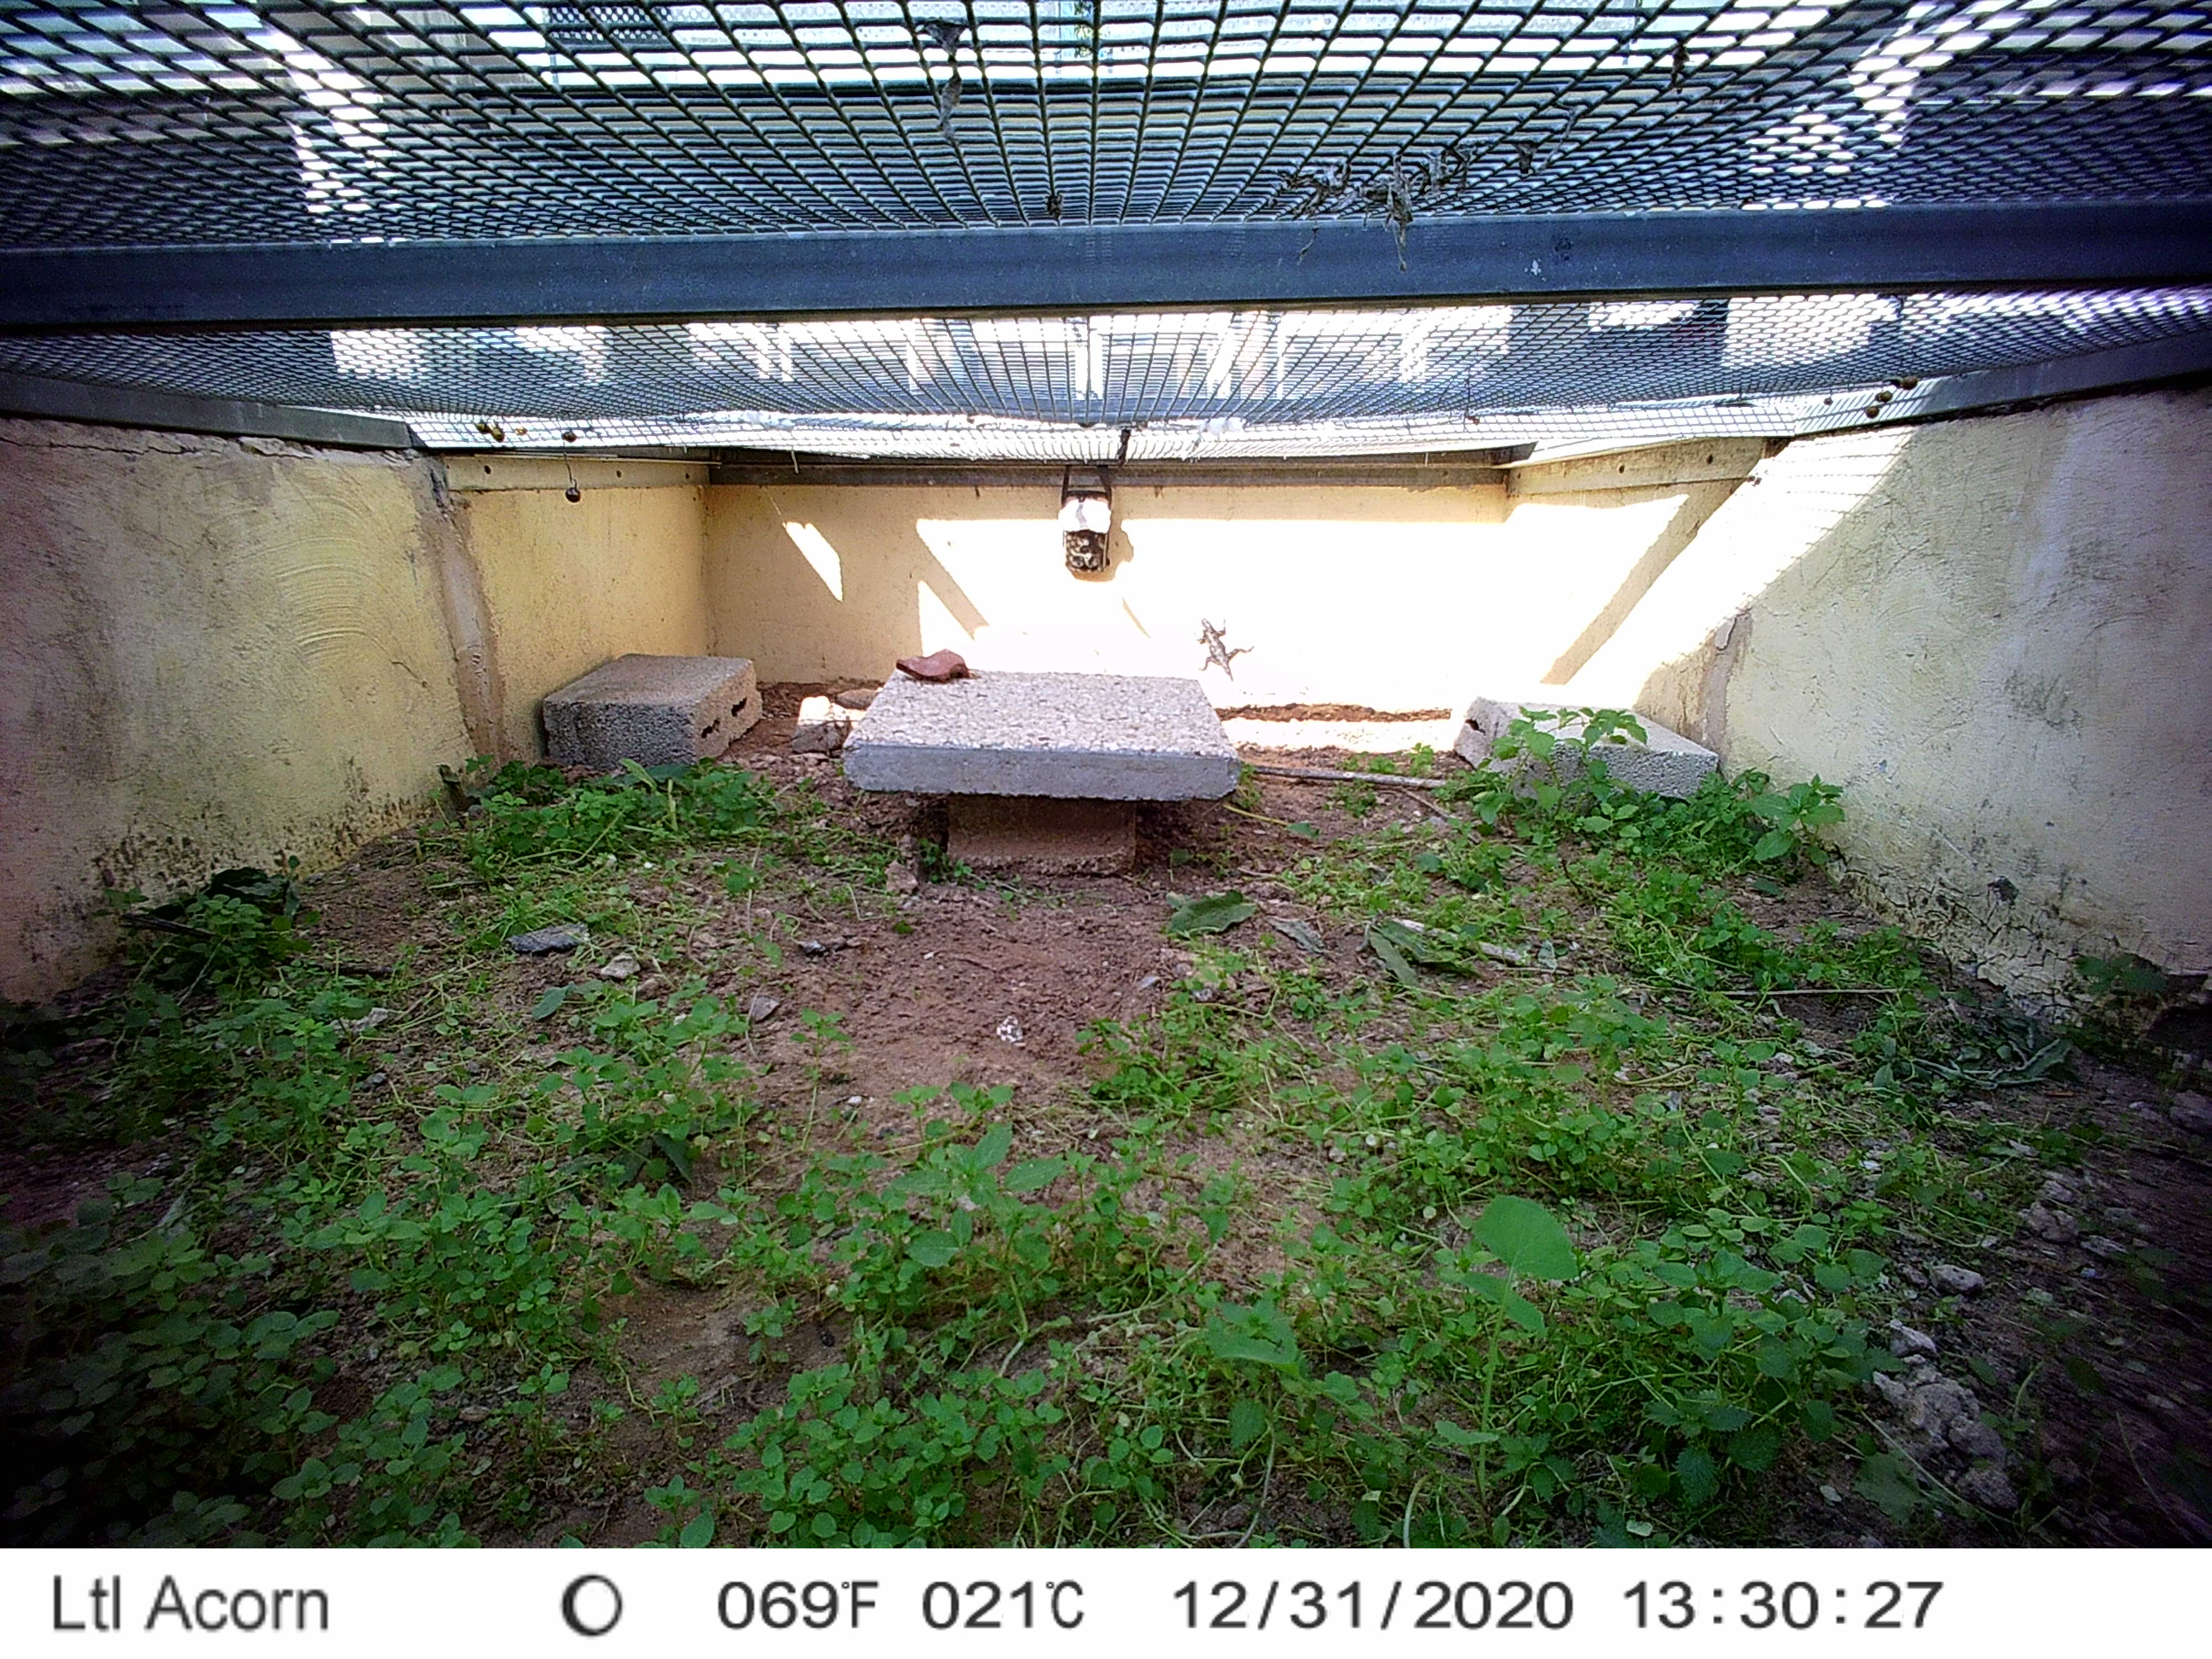lizard: (1183, 594, 1263, 699)
